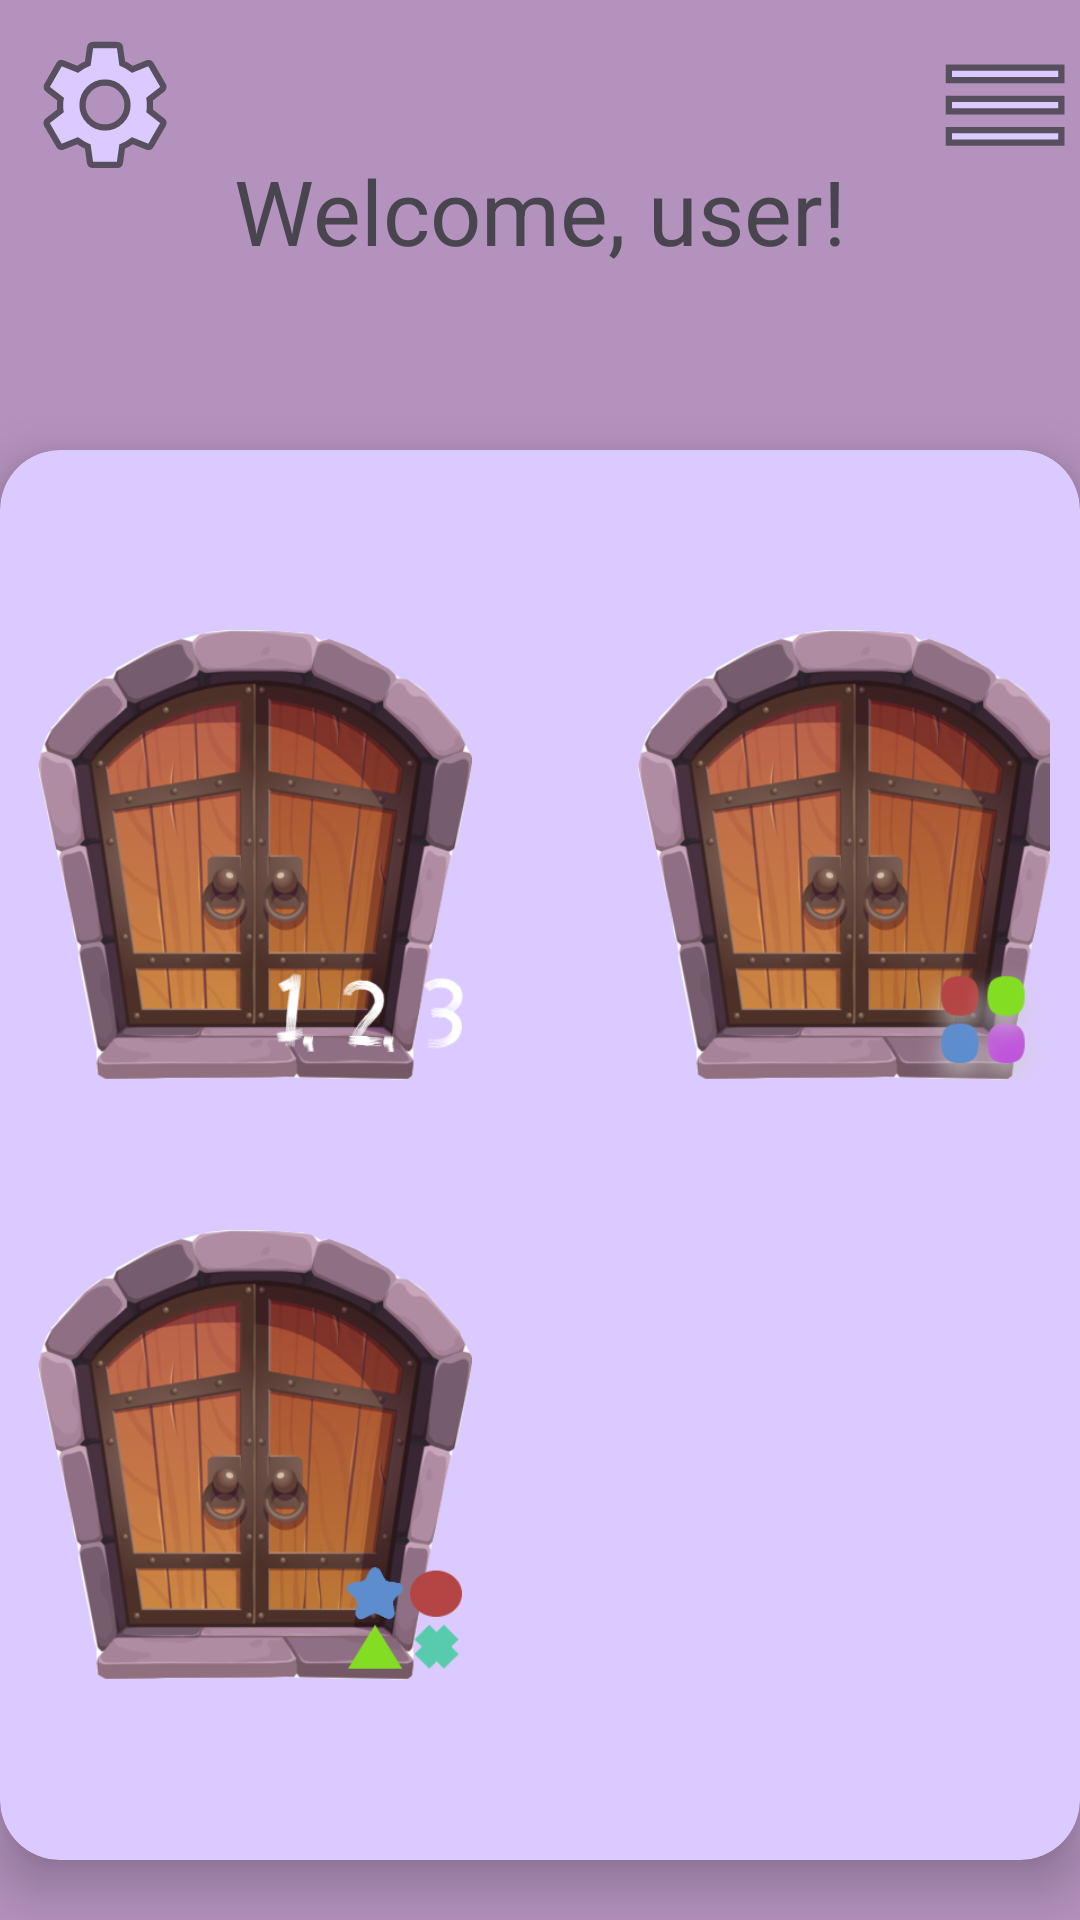

Locate icon controls on the screen. Image size 1080w x 1920h, boxes as (x1, y1, x2, y2).
menu: (945, 64, 1065, 146)
settings: (43, 42, 167, 168)
